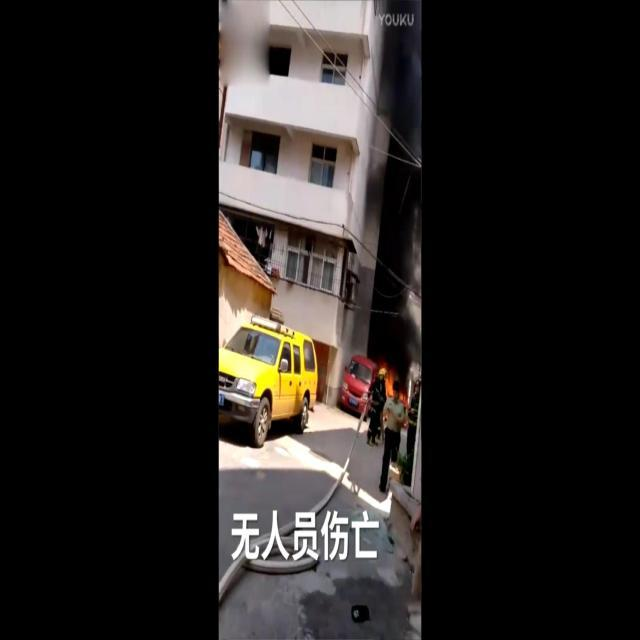Smoke: (382, 29, 420, 352), (220, 1, 272, 87)
